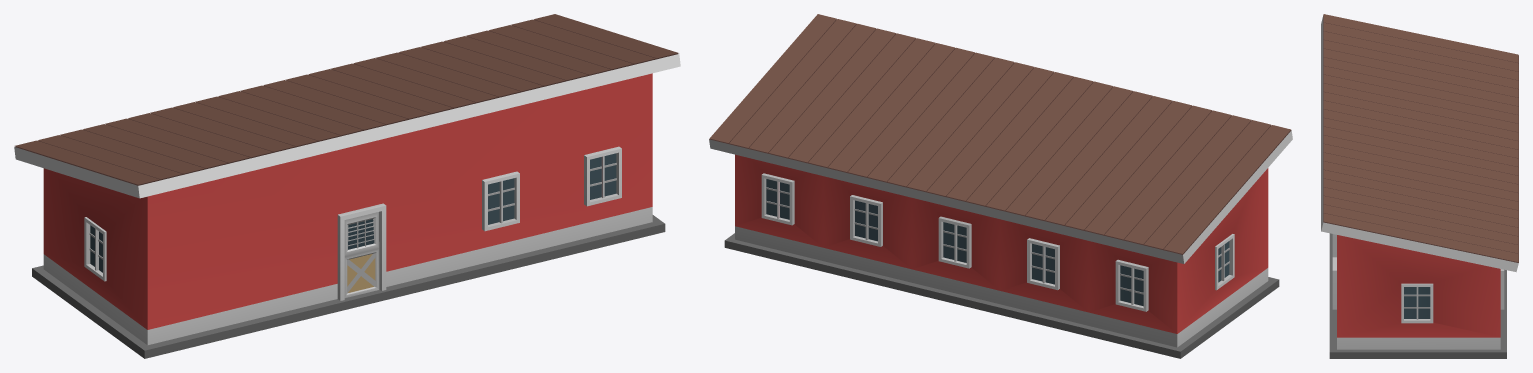
File: hangar_019.glb
The picture shows the model from 3 angles, left to right: view 1: azimuth 30°, elevation 25°; view 2: azimuth 150°, elevation 25°; view 3: azimuth 270°, elevation 25°; orthographic projection. The views are drawn at different scales.
Parts seen in each view (by area): view 1: hangar_019; view 2: hangar_019; view 3: hangar_019.
Boxes of the visible parts, x1=… form: hangar_019: x1=14, y1=14, x2=680, y2=358; hangar_019: x1=709, y1=14, x2=1292, y2=358; hangar_019: x1=1321, y1=14, x2=1518, y2=358.
Bounding box in the file's own units: 16.42 × 5.2 × 6.6.
Materials: 1 (1 with a texture image).
